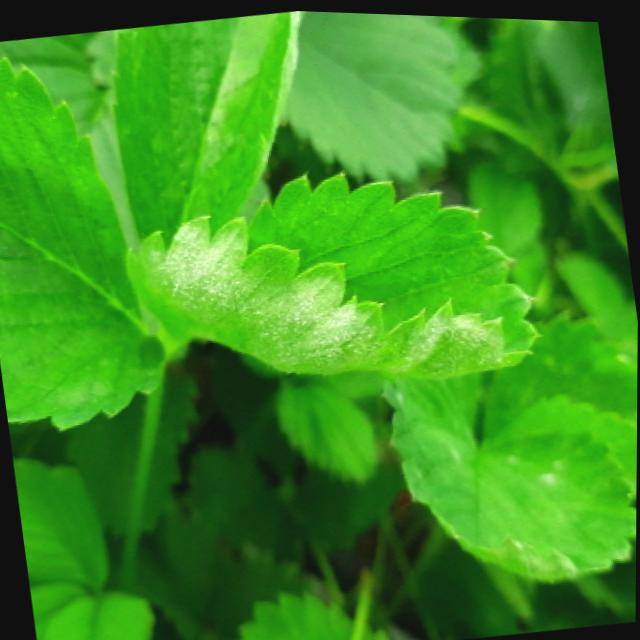Powdery Mildew Leaf: (128, 169, 545, 377), (383, 376, 637, 579), (111, 9, 310, 239)
